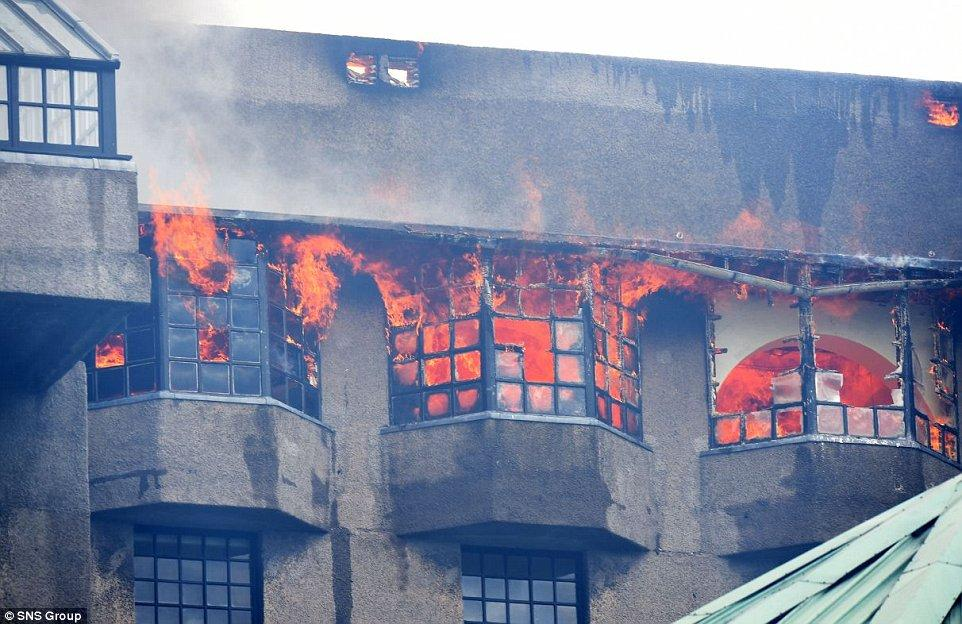Fire: (141, 205, 962, 437)
